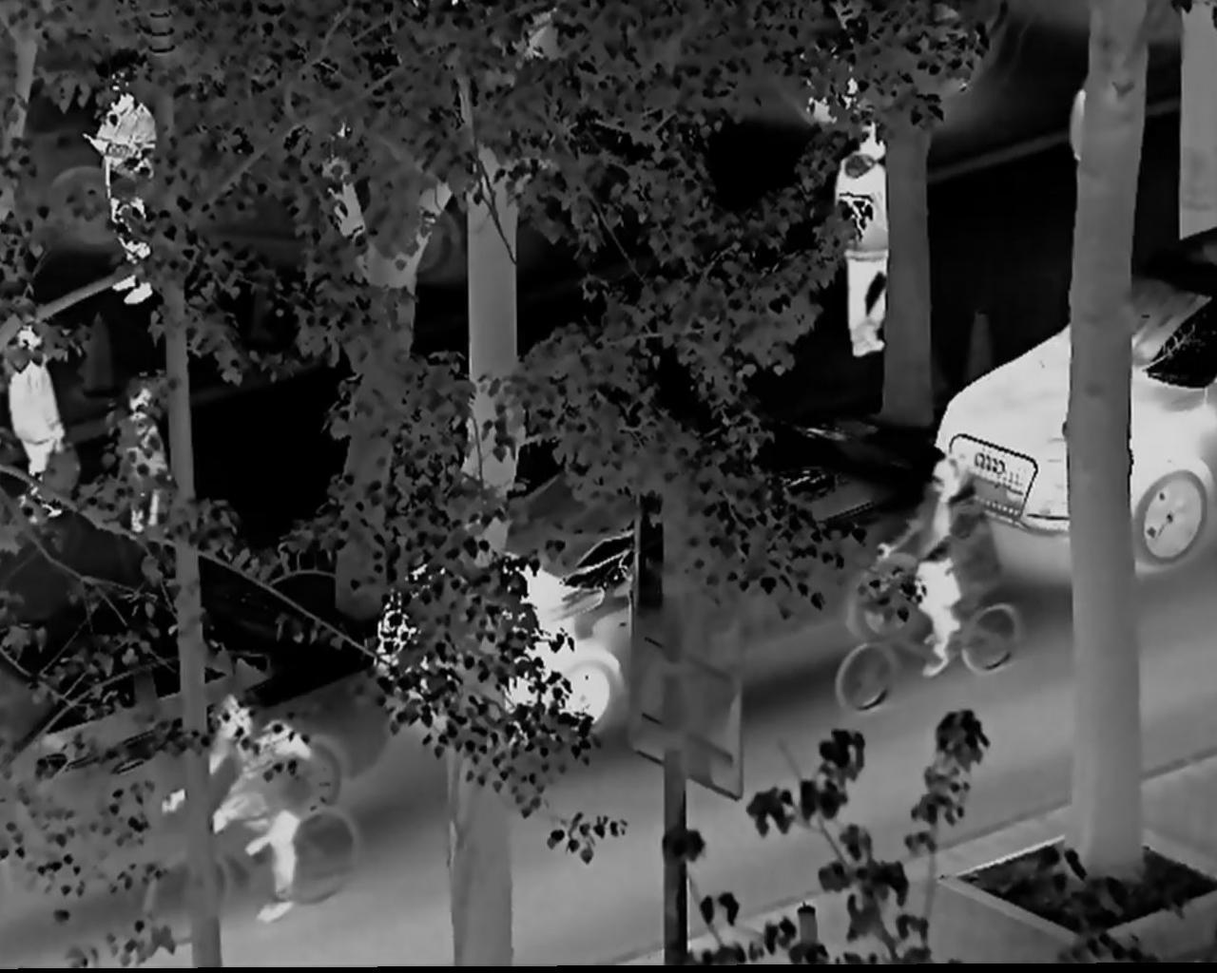person: (160, 704, 300, 927), (879, 459, 1000, 692), (87, 77, 175, 325), (831, 122, 909, 354), (95, 390, 166, 566), (7, 325, 69, 522)
